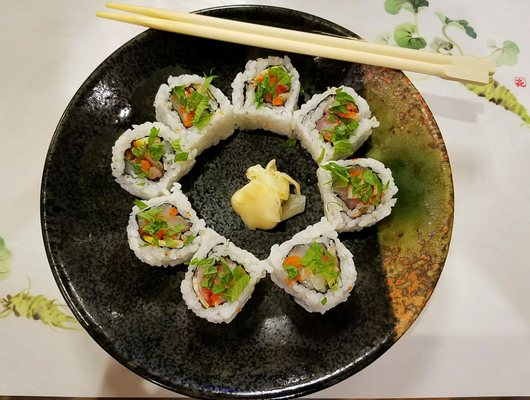sushi: (33, 12, 490, 396)
